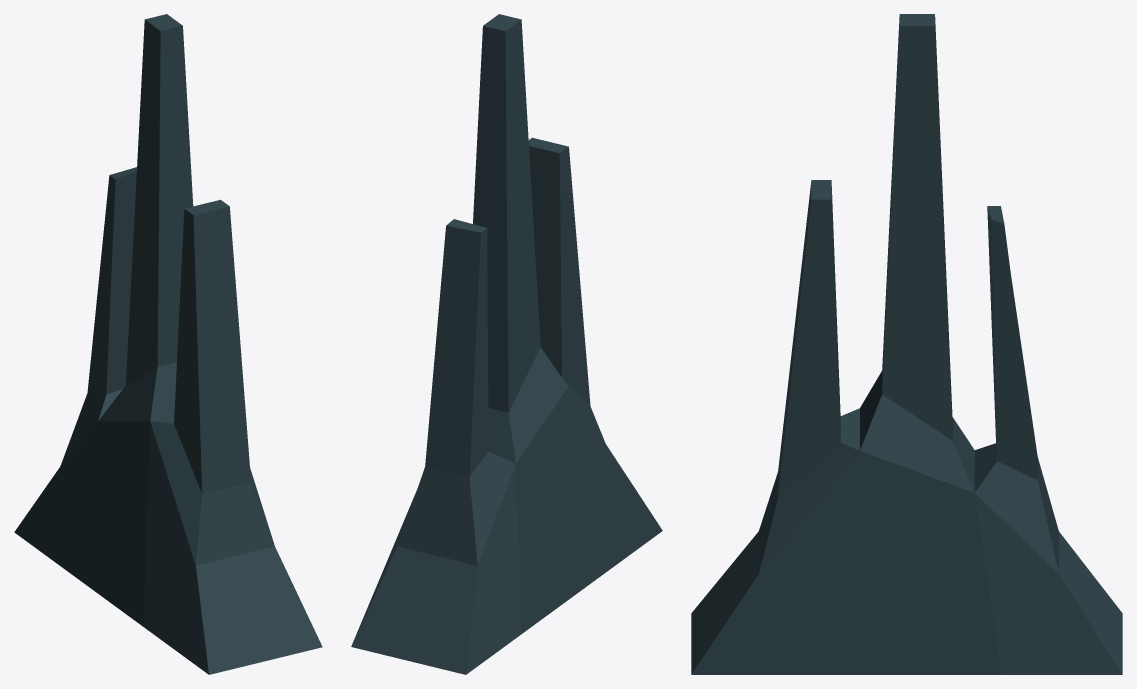
File: rock3.fbx
The picture shows the model from 3 angles, left to right: view 1: azimuth 30°, elevation 25°; view 2: azimuth 150°, elevation 25°; view 3: azimuth 270°, elevation 25°; orthographic projection. The views are drawn at different scales.
Parts seen in each view (by area): view 1: Cube; view 2: Cube; view 3: Cube.
Part boxes in pixels (x1,y1,x2,y2): Cube: (14,14,322,674); Cube: (351,14,662,674); Cube: (691,14,1122,674).
Bounding box in the file's own units: 288 × 1362 × 853.
